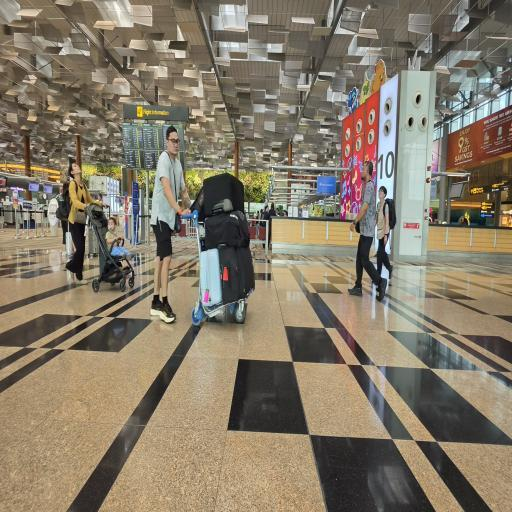person_left: (352, 154, 378, 301), (376, 183, 396, 284)
person_right: (64, 152, 133, 294)
person_with_luggage_right: (148, 122, 258, 334)
